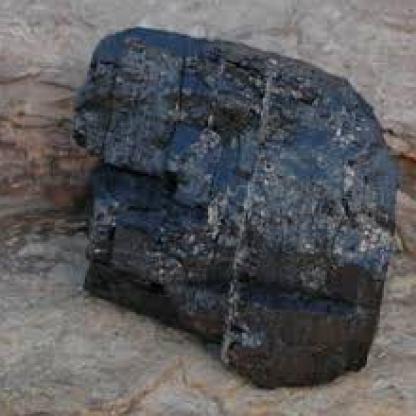Sedimentary_coal: (76, 15, 397, 395)
